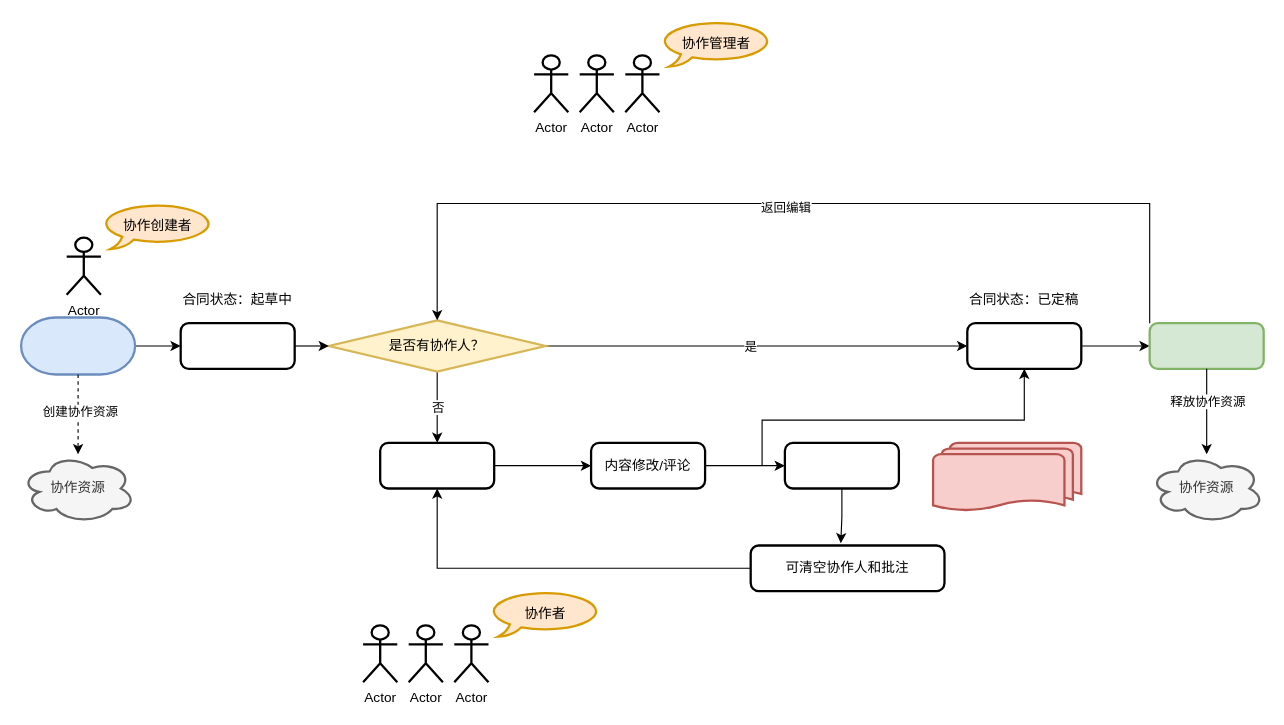
Image size: 1284x725. Some labels were removed from this diagram. Each missing label, with the box of its shape:
上传文件: (179, 321, 295, 369)
保存版本: (783, 441, 899, 489)
协作一致性保障: (931, 441, 1082, 512)
发起合同: (1148, 321, 1264, 369)
合同定稿: (966, 321, 1082, 369)
起草合同: (19, 316, 136, 375)
邀请协作人: (378, 441, 495, 489)
